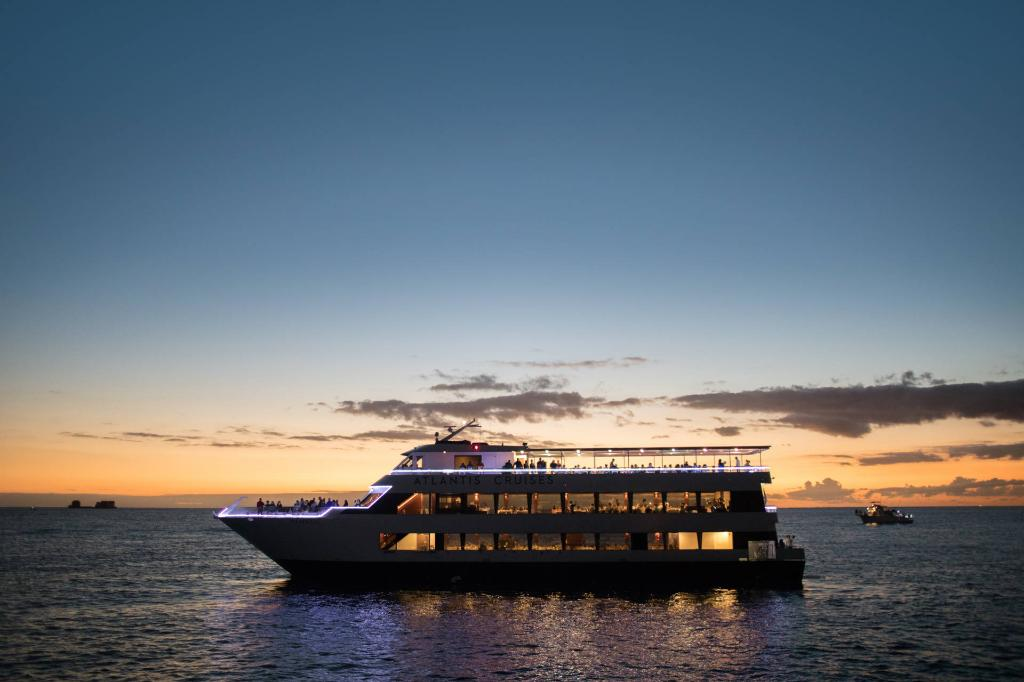PassengerShip: (203, 407, 815, 595)
